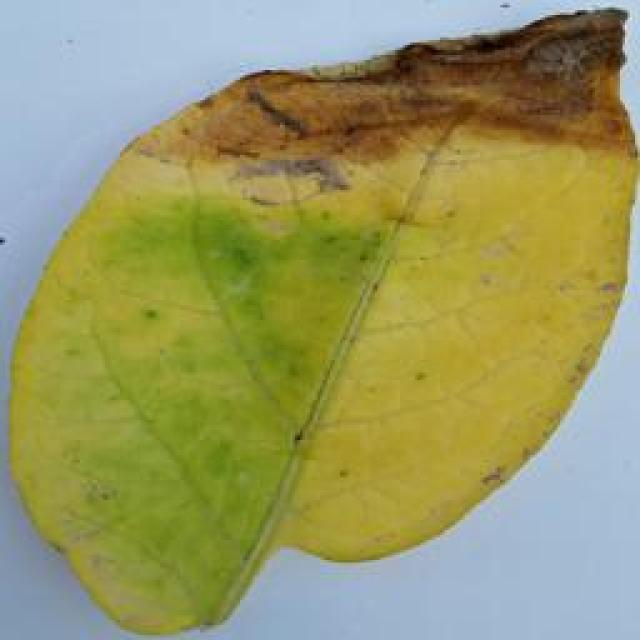Potato_Late_Blight: (10, 10, 624, 638)
